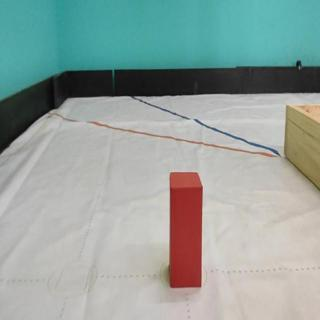redbox: (170, 171, 203, 288)
